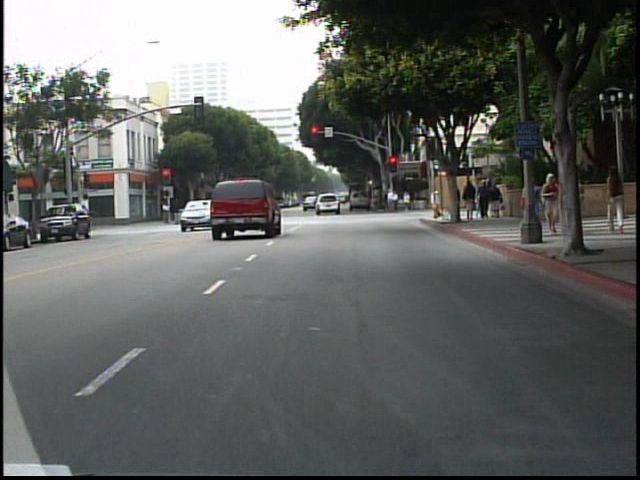person: (603, 163, 627, 234), (538, 172, 561, 237), (578, 171, 595, 238), (462, 177, 479, 223), (430, 187, 445, 220), (161, 201, 174, 229)
